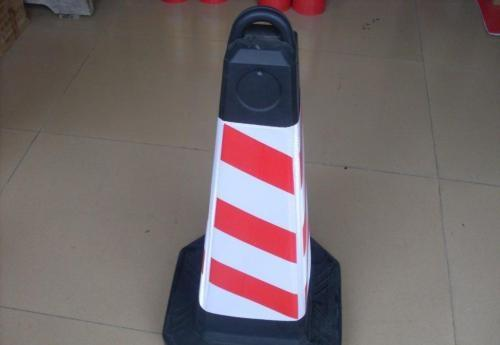cone_barrel: (167, 16, 342, 331)
